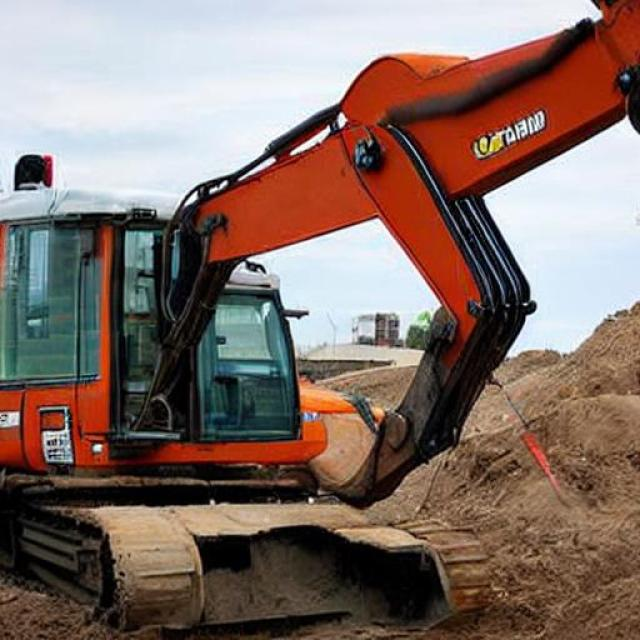excavator: (547, 177, 598, 213)
